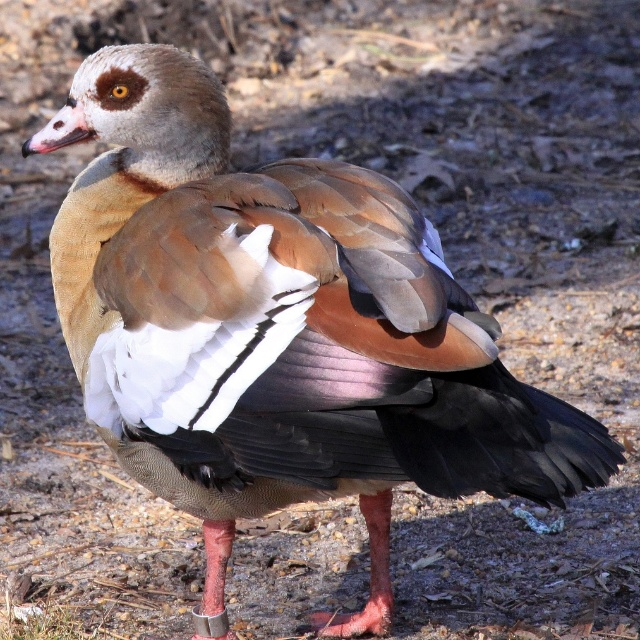Goose: (20, 41, 628, 640)
